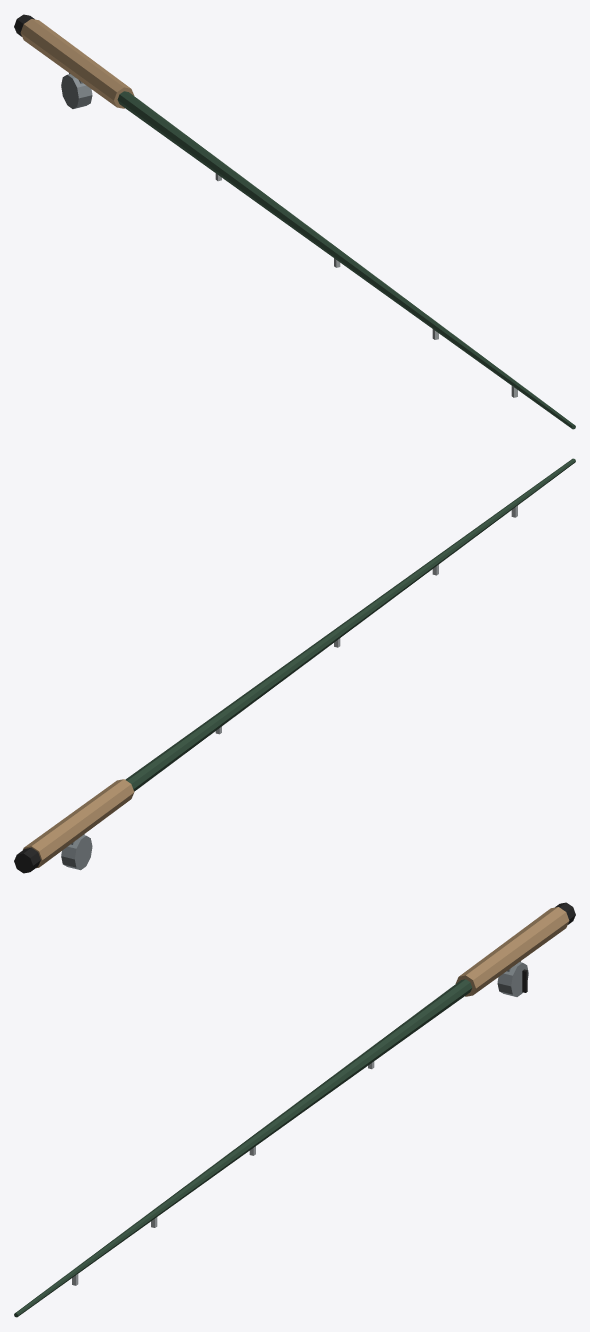
Rendered from rod.glb.
3 renders of one model, top to bottom at view 1: azimuth 30°, elevation 25°; view 2: azimuth 150°, elevation 25°; view 3: azimuth 330°, elevation 25°, orthographic.
Visible parts, largest first — view 1: rod; view 2: rod; view 3: rod.
Part boxes in pixels (x1,y1,x2,y2): rod: [14, 14, 575, 429]; rod: [14, 458, 575, 873]; rod: [14, 902, 575, 1317].
Size of the model in its own units: 0.072 by 0.1498 by 2.79.
